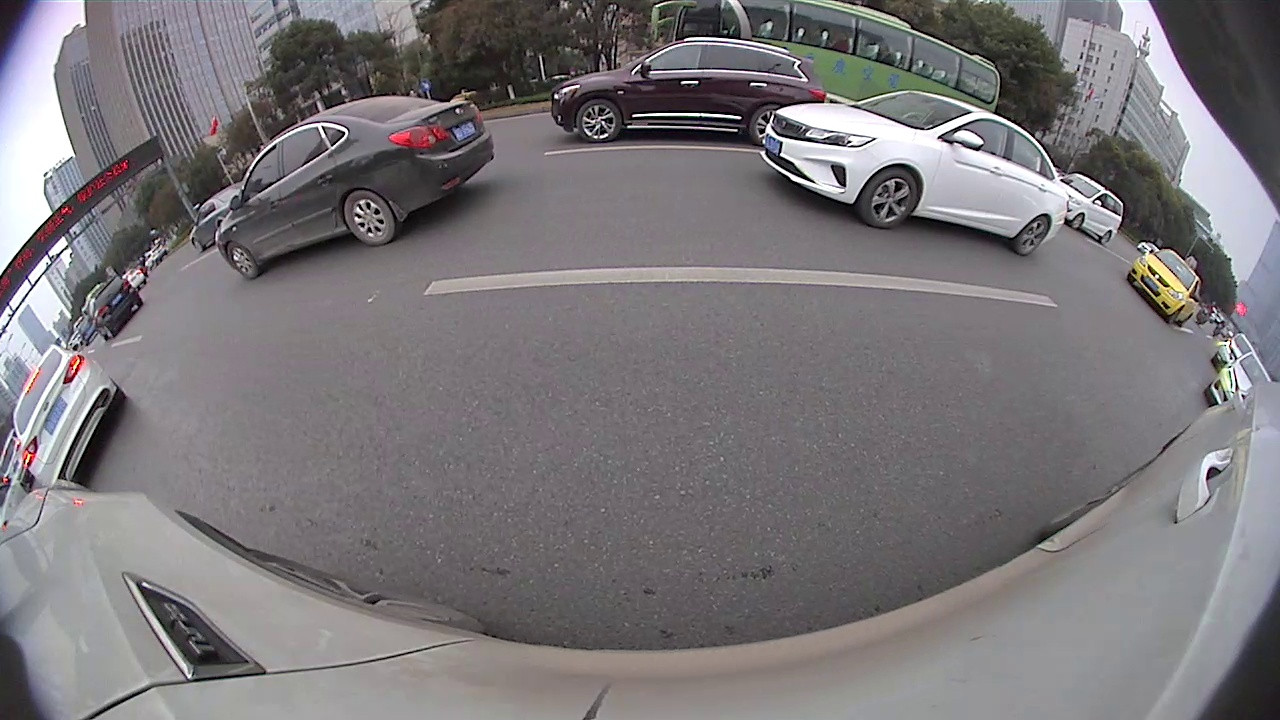bus: (648, 2, 1007, 120)
car: (754, 90, 1075, 261), (213, 93, 498, 283), (546, 39, 826, 145), (7, 339, 129, 489), (1127, 245, 1205, 330), (1057, 172, 1127, 247), (1202, 349, 1275, 414)
front: (858, 167, 919, 228), (575, 98, 625, 143), (226, 243, 261, 278)
rear: (342, 188, 396, 246), (1021, 215, 1049, 253)
